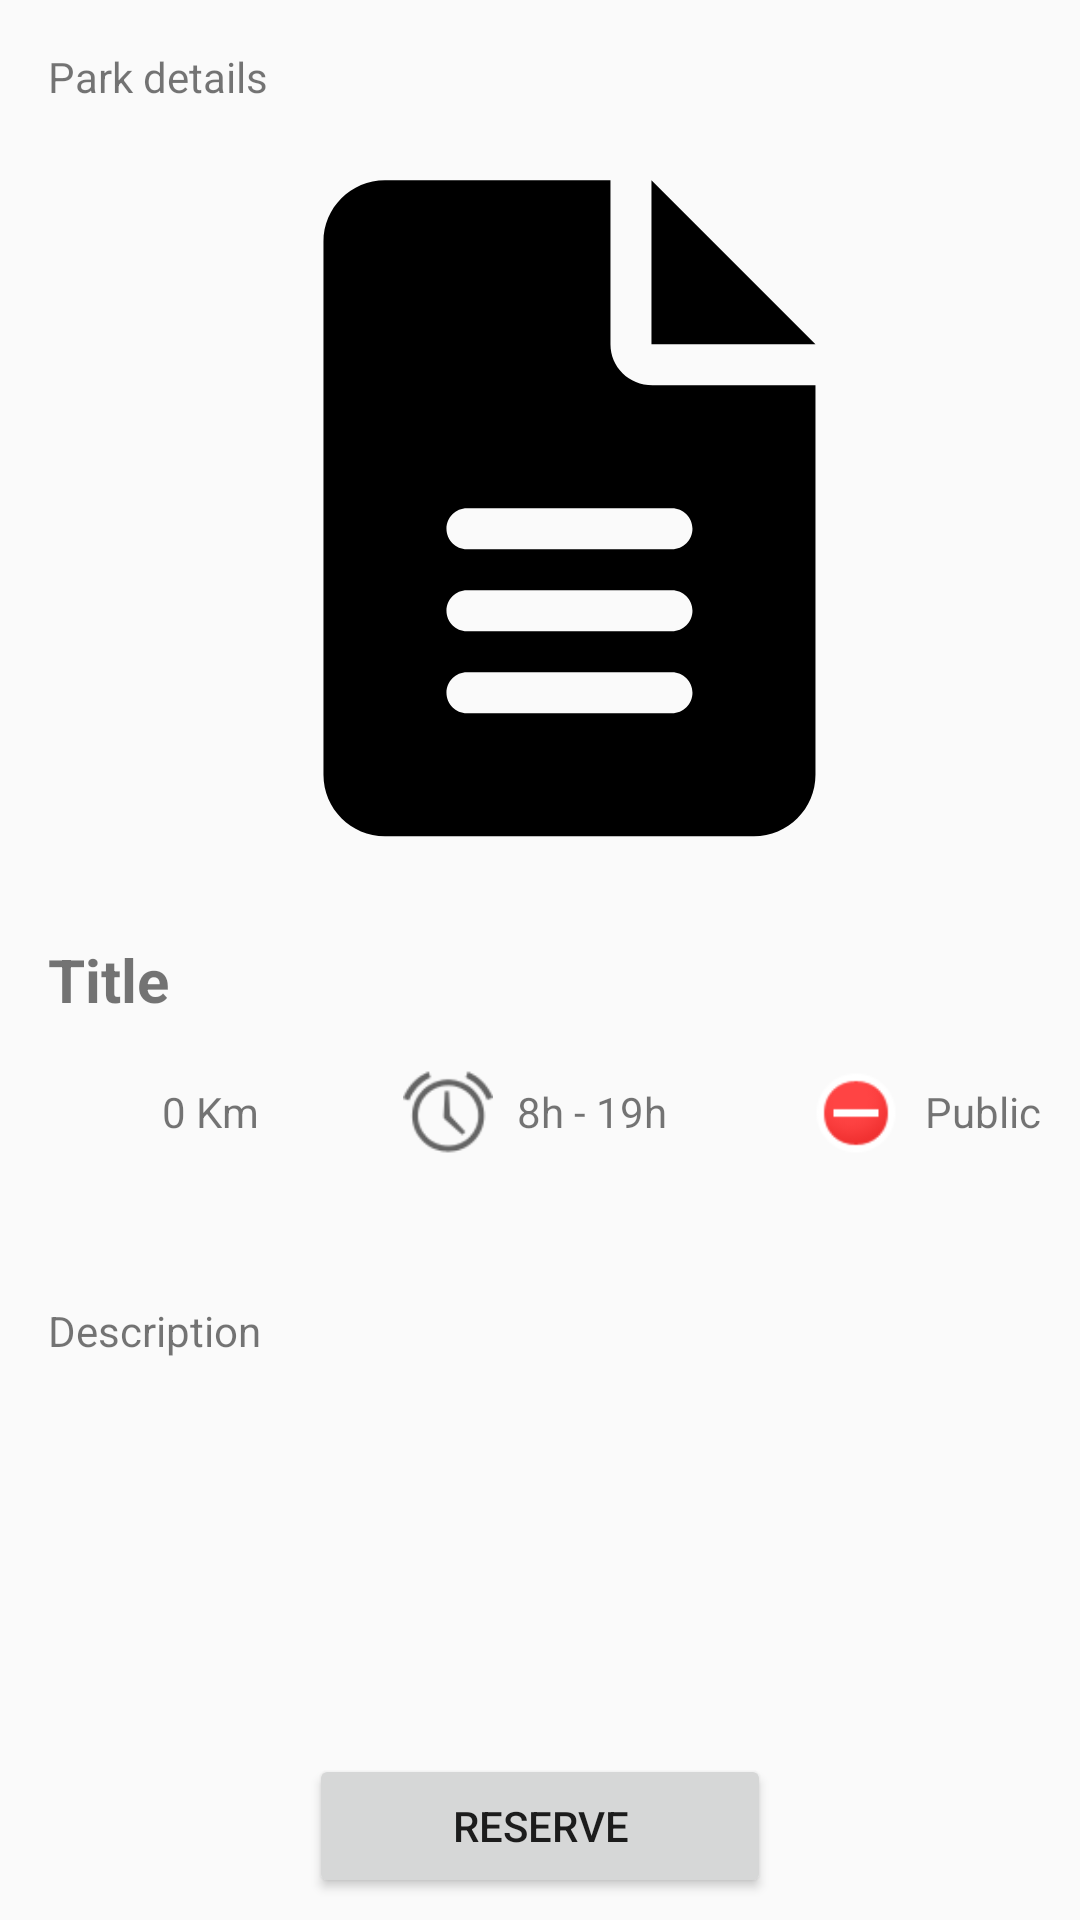

Screen size 1080px x 1920px. Icon name, then its center in pixels as (x,y):
lock idle alarm: (448,1112)
presence busy: (856,1113)
